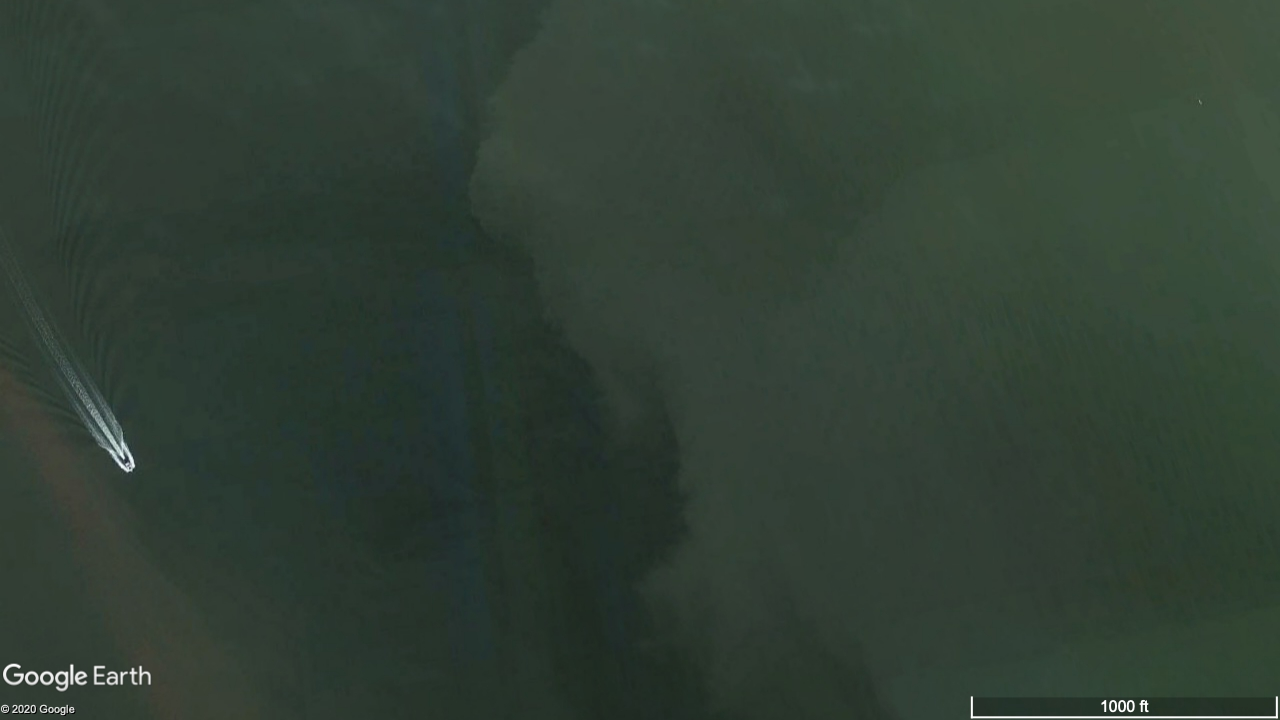satboat: (124, 459, 135, 472)
